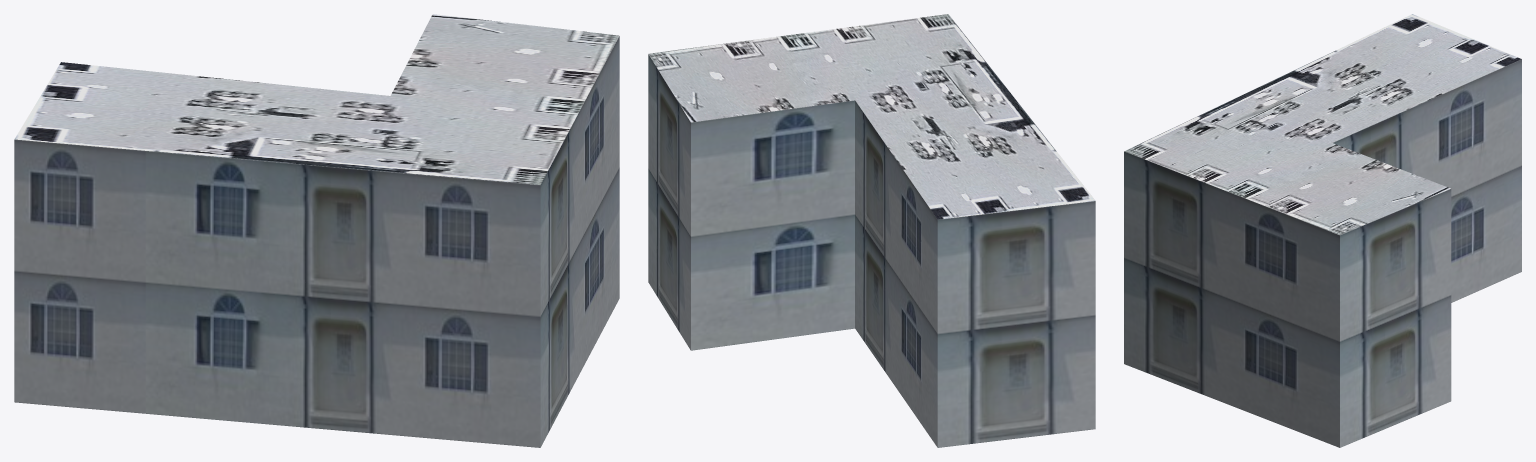
Rendered from ResTex__1662.fbx.
The picture shows the model from 3 angles, left to right: view 1: azimuth 30°, elevation 25°; view 2: azimuth 150°, elevation 25°; view 3: azimuth 270°, elevation 25°; orthographic projection. The views are drawn at different scales.
Parts seen in each view (by area): view 1: CityEngineMaterial_17_m, CityEngineMaterial_m; view 2: CityEngineMaterial_17_m, CityEngineMaterial_m; view 3: CityEngineMaterial_17_m, CityEngineMaterial_m.
Part boxes in pixels (box(x1,y1,x2,y2)): CityEngineMaterial_17_m: box(14, 36, 619, 447); CityEngineMaterial_m: box(14, 14, 619, 184); CityEngineMaterial_17_m: box(648, 54, 1095, 447); CityEngineMaterial_m: box(648, 14, 1095, 219); CityEngineMaterial_17_m: box(1124, 59, 1521, 447); CityEngineMaterial_m: box(1124, 14, 1521, 234).
Size of the model in its own units: 13.38 by 6 by 10.17.
Materials: 2 (2 with a texture image).
